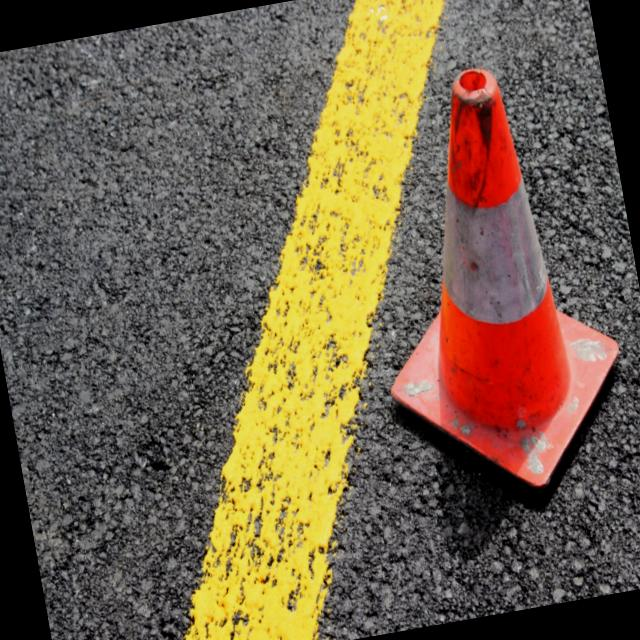cone: (323, 32, 640, 531)
